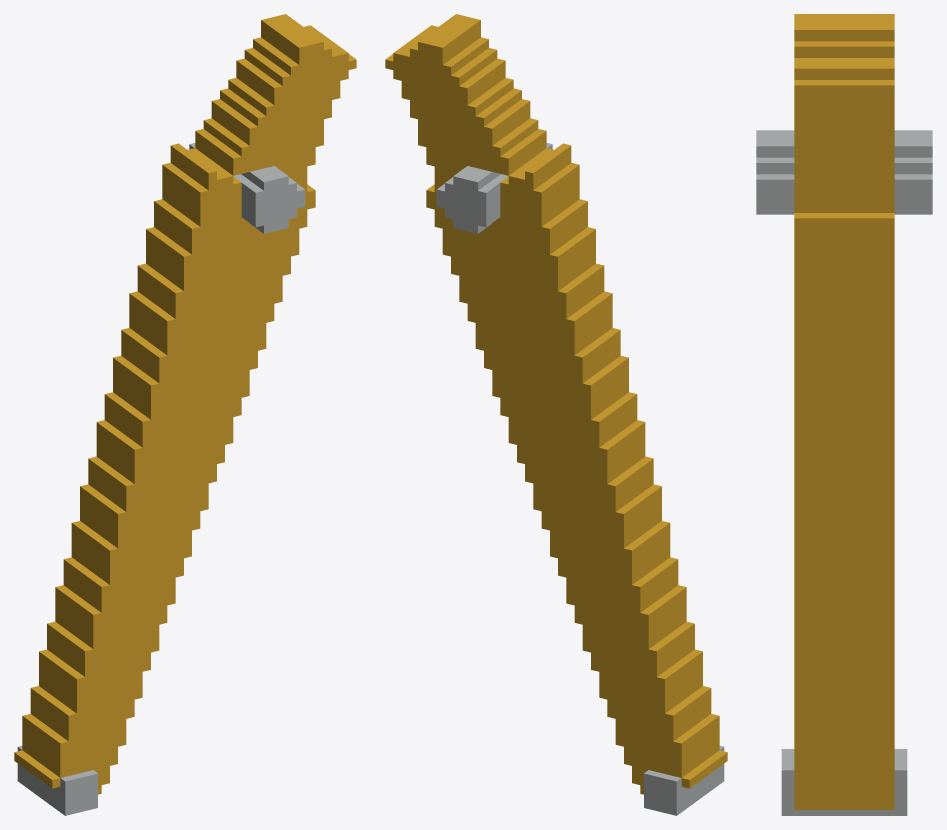
The model's file is excavator_arm.glb.
3 views of the same model, side by side, from view 1: azimuth 30°, elevation 25°; view 2: azimuth 150°, elevation 25°; view 3: azimuth 270°, elevation 25° (orthographic). The views are drawn at different scales.
Parts seen in each view (by area): view 1: body:compound; view 2: body:compound; view 3: body:compound.
Part boxes in pixels (bbox=[...]): body:compound: bbox=[14, 14, 356, 815]; body:compound: bbox=[385, 14, 727, 815]; body:compound: bbox=[756, 14, 932, 815].
Size of the model in its own units: 1.16 by 2.56 by 0.4375.
